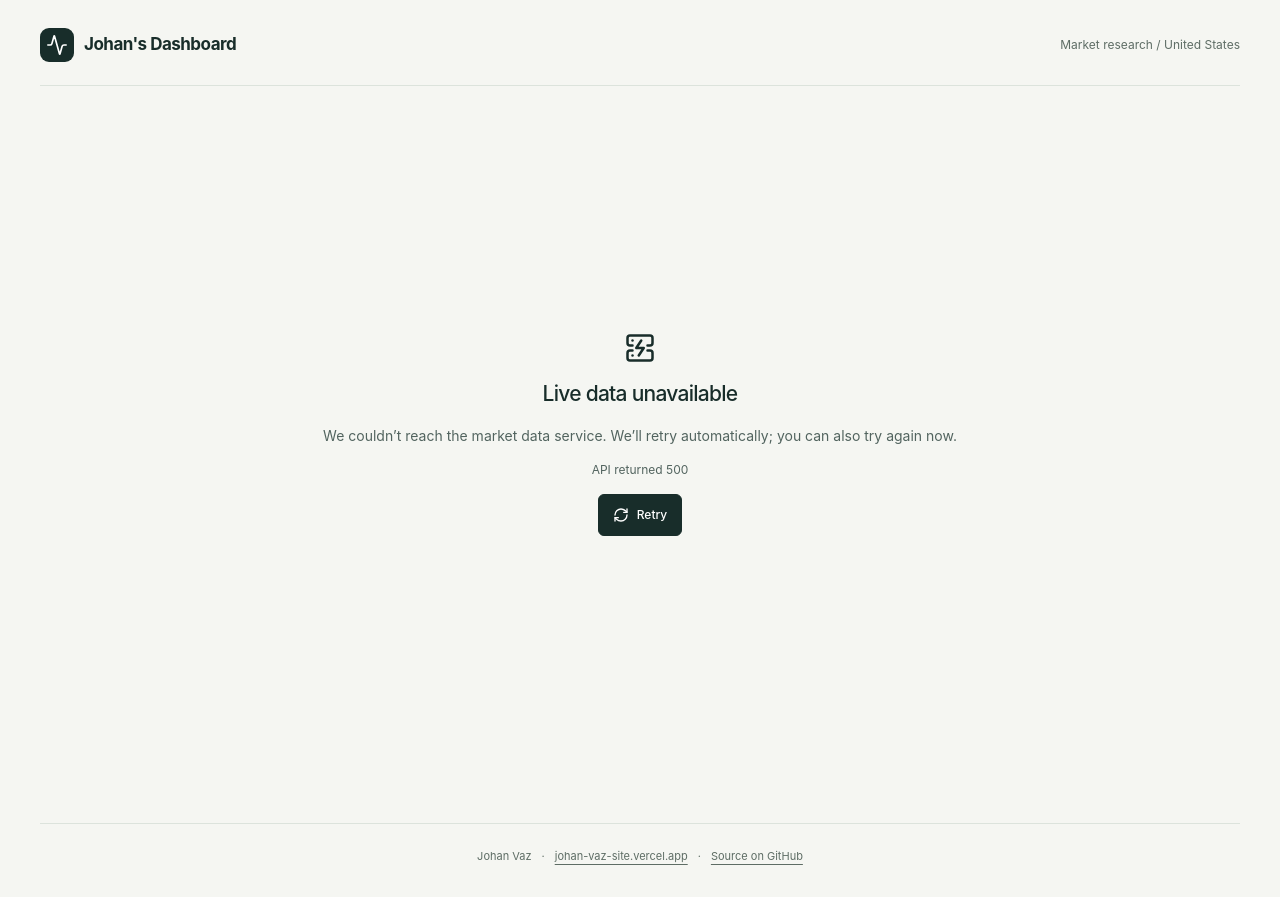
Test: App dashboard states › renders a fatal source error and recovers on retry
This screenshot has width=1280, height=897.
Check: the heading "Live data unavailable" is shown, box [543,378,738,410]
Check: the text "API returned 500" is shown, box [592,460,688,478]
Click the button "Retry". click: (640, 514)
box: [598,494,682,536]
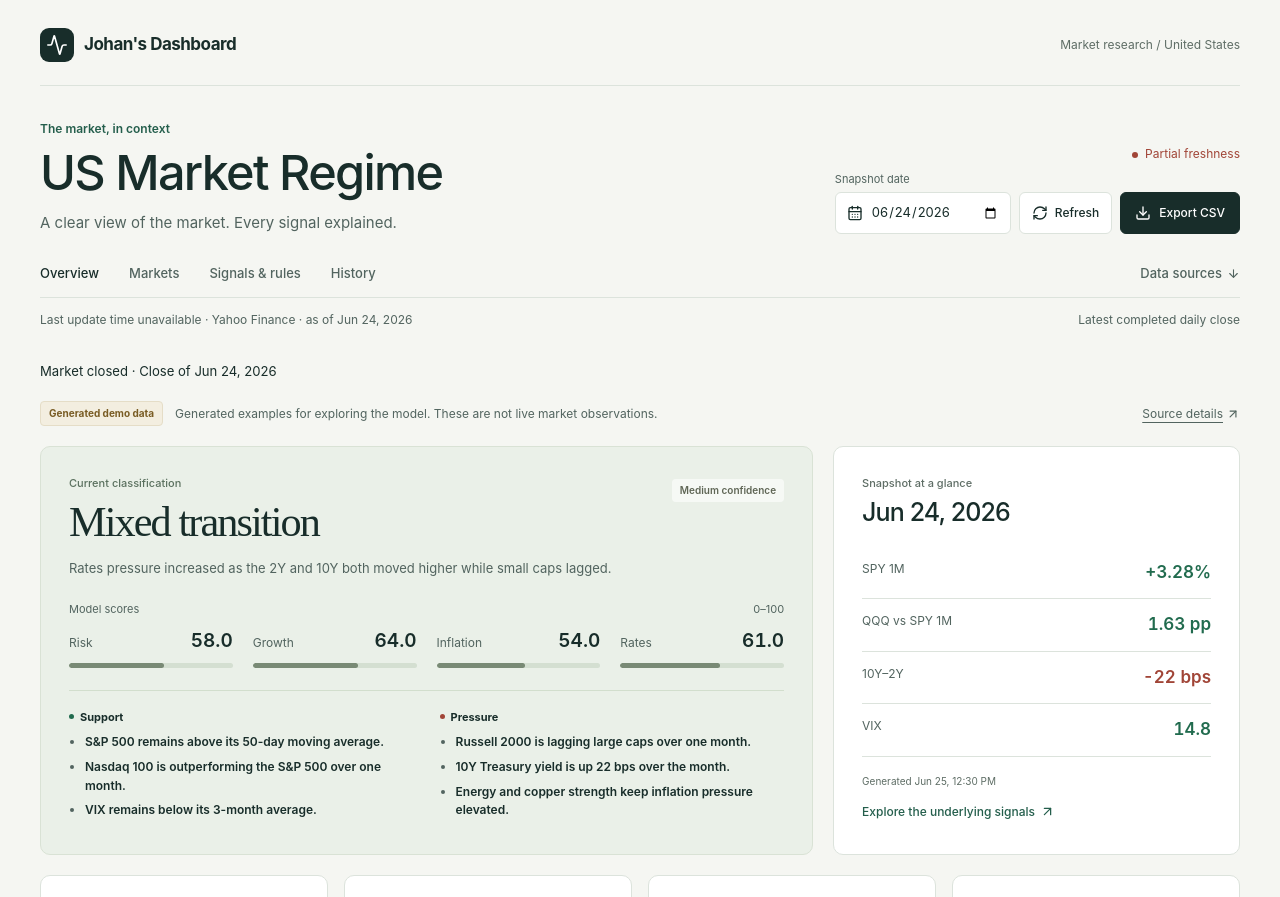
Check: the heading "Mixed transition" is shown, box [69,497,319,547]
